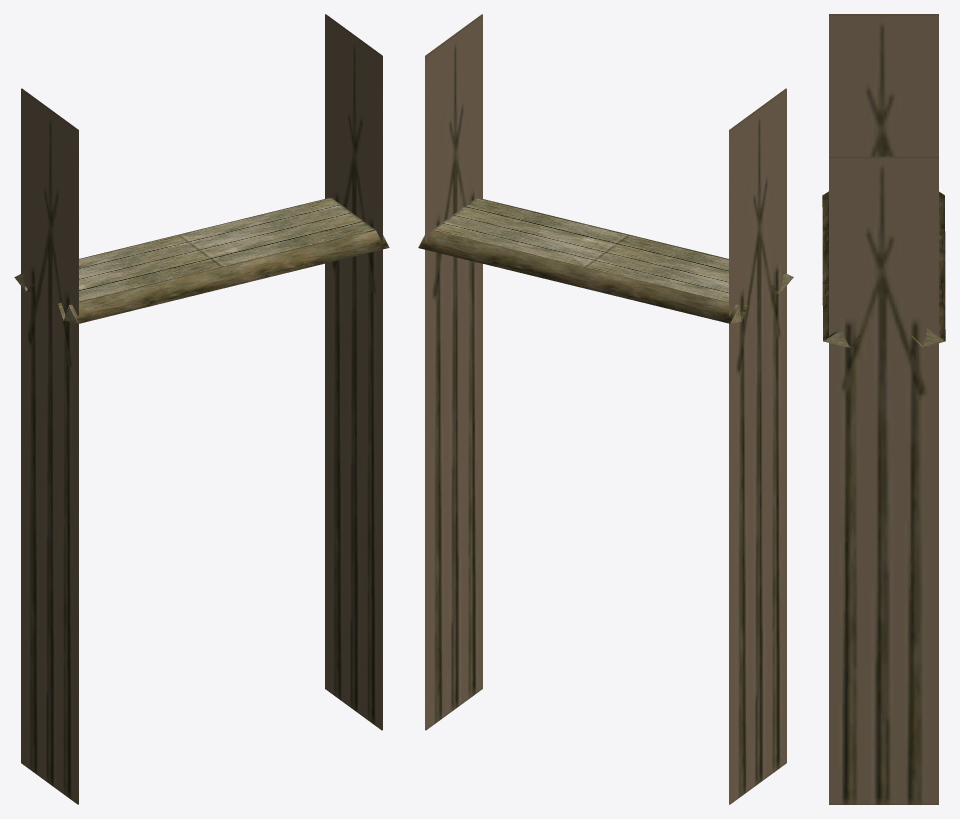
The model's file is thm_endr_lake_platform_cap_s01_l3.fbx.
3 views of the same model, side by side, from view 1: azimuth 30°, elevation 25°; view 2: azimuth 150°, elevation 25°; view 3: azimuth 270°, elevation 25° (orthographic). The views are drawn at different scales.
Parts seen in each view (by area): view 1: mesh_node; view 2: mesh_node; view 3: mesh_node.
Part boxes in pixels (x1,y1,x2,y2): mesh_node: (14,14,389,804); mesh_node: (418,14,793,804); mesh_node: (822,14,945,804).
Size of the model in its own units: 8.23 by 16.96 by 2.92.
Materials: 2 (2 with a texture image).
